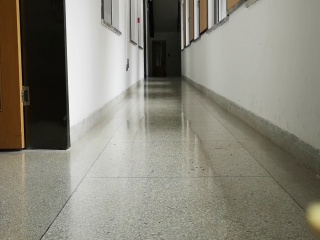room: (2, 3, 74, 148)
